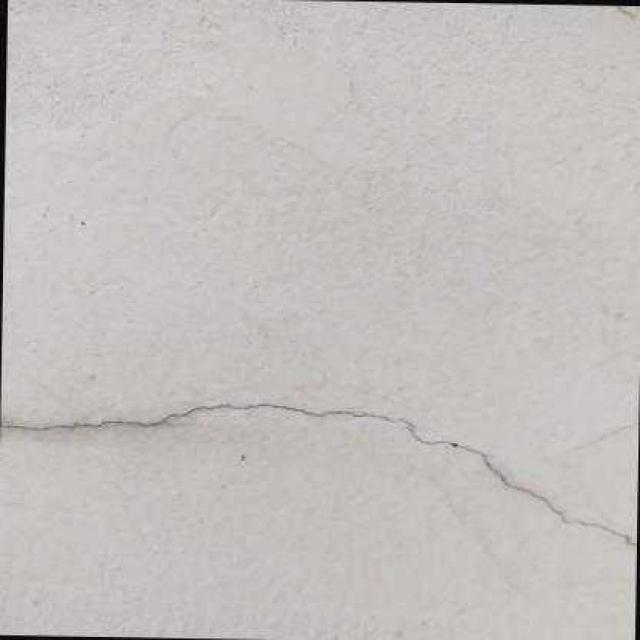D00: (0, 403, 636, 547)
